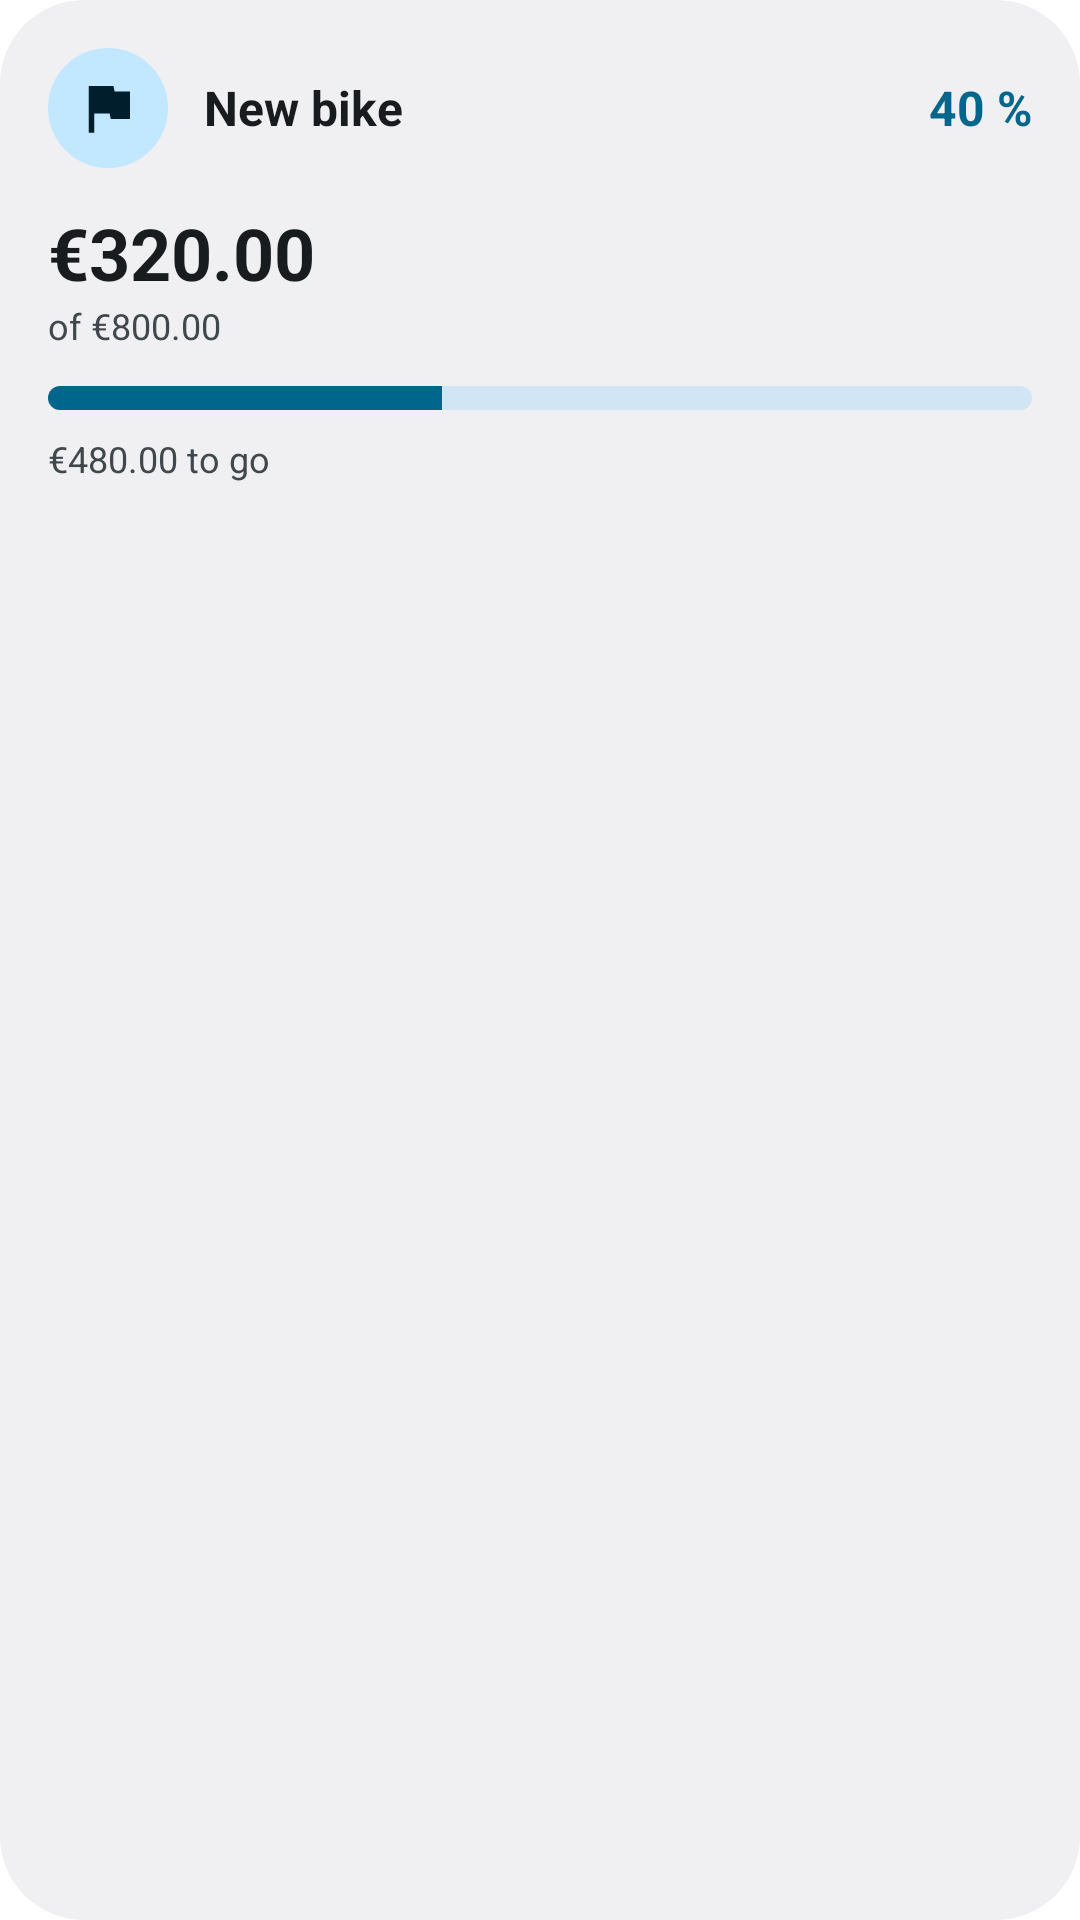

Where to tap for icons on this 1080x1920 app screen, as [x,y]:
widget goal: [108,108]
